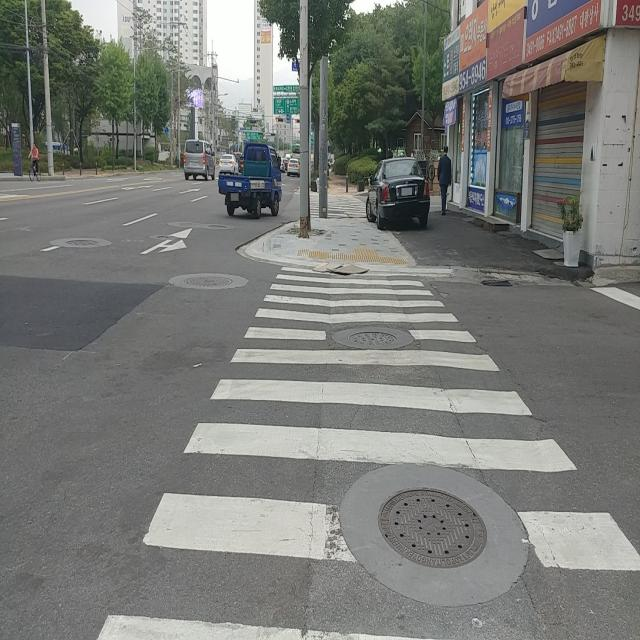횡단보도: (91, 262, 640, 640)
